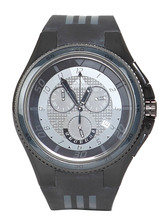watch: (8, 13, 159, 215)
